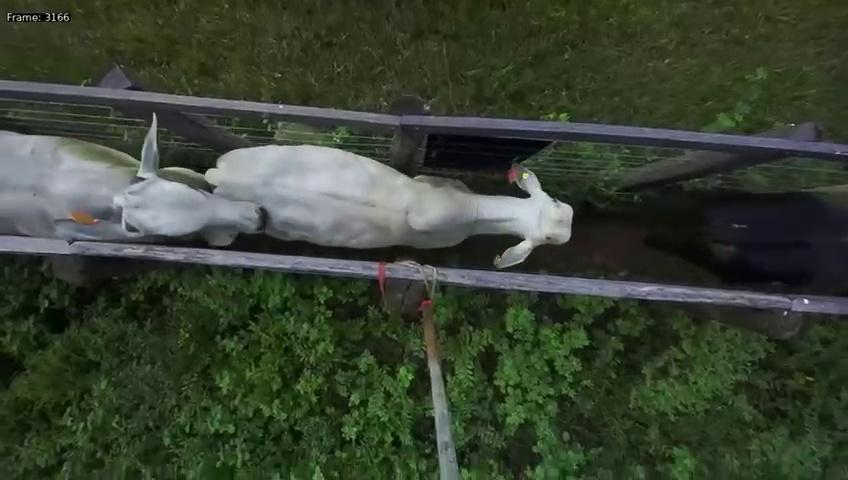cattle: (203, 115, 575, 268), (0, 106, 283, 253)
